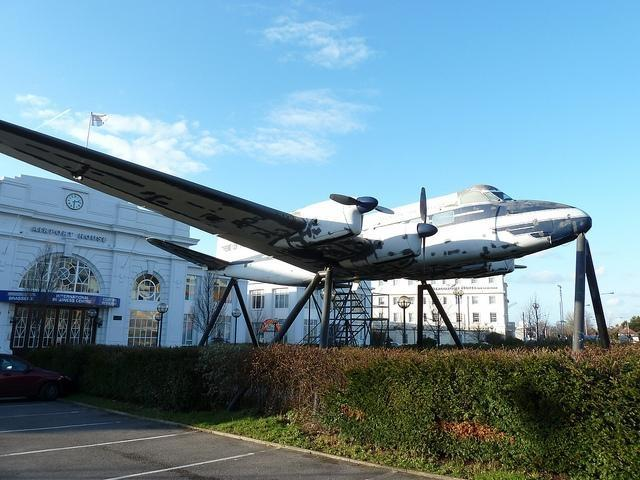car: (0, 354, 73, 401)
